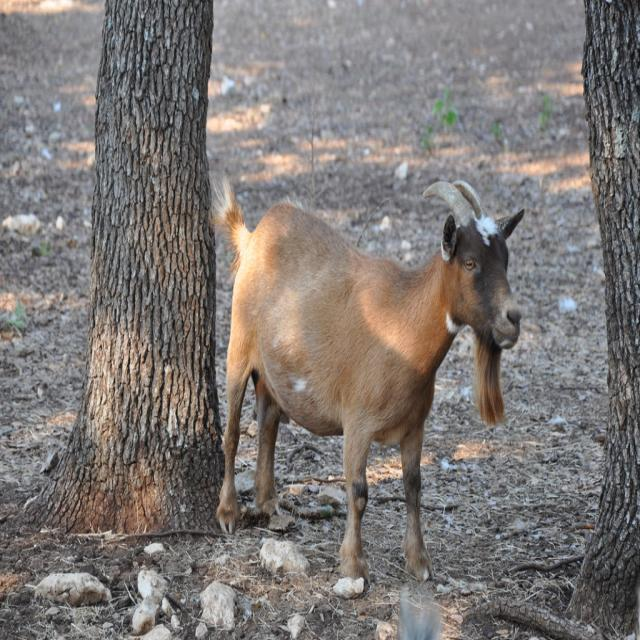Goat: (210, 173, 525, 588)
